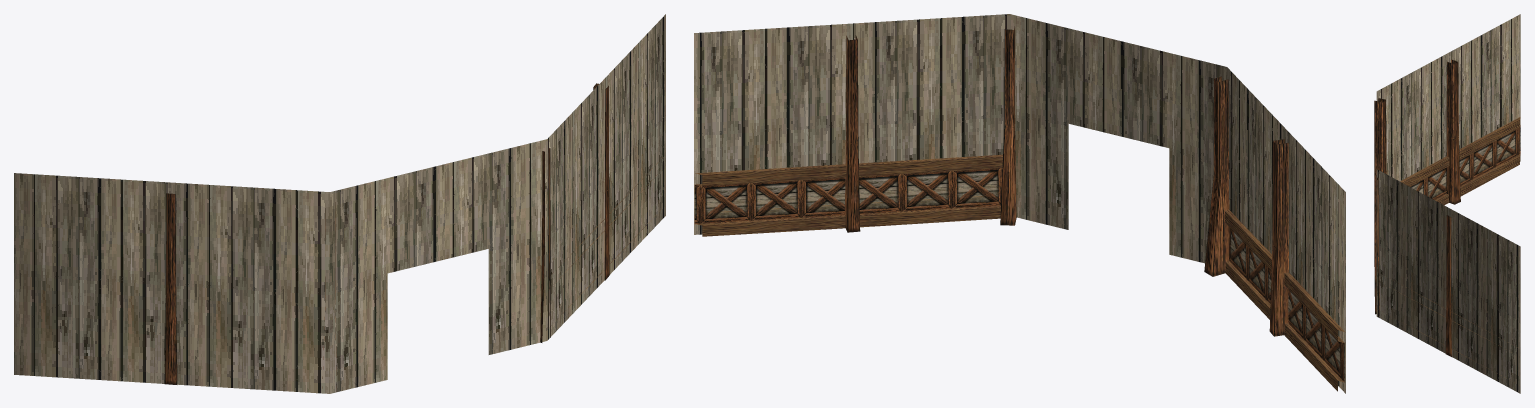
File: LAKETOWN_WAREHOUSE2_PS_WH2_SIDEWALL4884__GX.fbx
The picture shows the model from 3 angles, left to right: view 1: azimuth 30°, elevation 25°; view 2: azimuth 150°, elevation 25°; view 3: azimuth 270°, elevation 25°; orthographic projection. The views are drawn at different scales.
Parts seen in each view (by area): view 1: LAKETOWN_WAREHOUSE2_PS_WH2_SIDEWALL4884__GX; view 2: LAKETOWN_WAREHOUSE2_PS_WH2_SIDEWALL4884__GX; view 3: LAKETOWN_WAREHOUSE2_PS_WH2_SIDEWALL4884__GX.
Boxes of the visible parts, bbox=[...] form: LAKETOWN_WAREHOUSE2_PS_WH2_SIDEWALL4884__GX: bbox=[14, 14, 665, 393]; LAKETOWN_WAREHOUSE2_PS_WH2_SIDEWALL4884__GX: bbox=[694, 14, 1345, 393]; LAKETOWN_WAREHOUSE2_PS_WH2_SIDEWALL4884__GX: bbox=[1374, 14, 1520, 393].
Bounding box in the file's own units: 176348 × 52347 × 46948.
4 materials, 4 textured.
